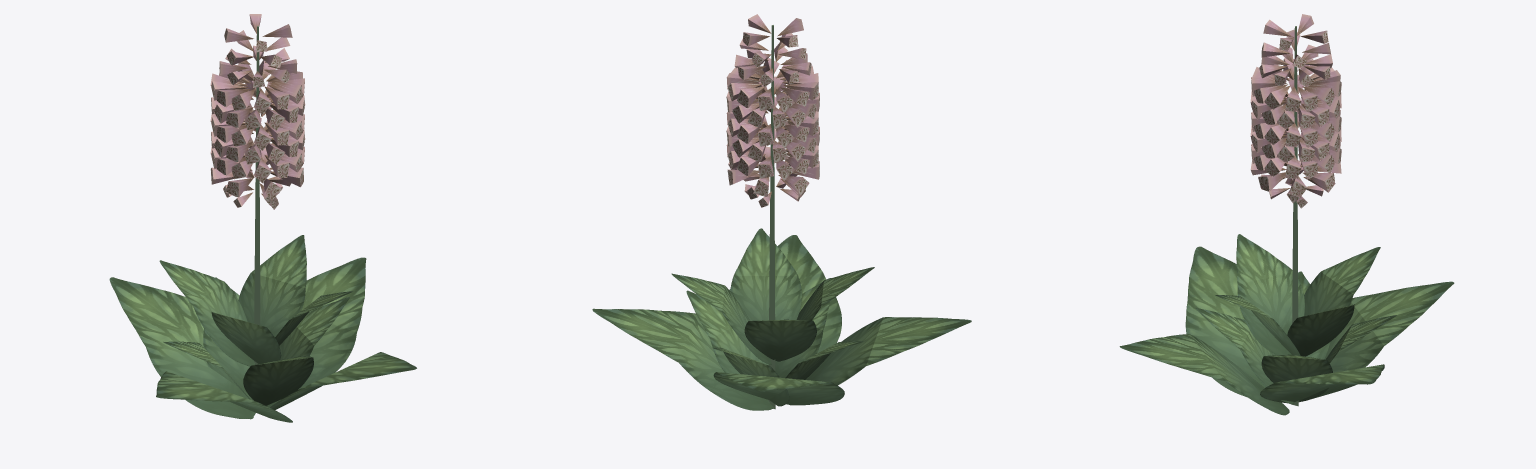
Rendered from MoreFlowersSadLowPoly.fbx.
3 views of the same model, side by side, from view 1: azimuth 30°, elevation 25°; view 2: azimuth 150°, elevation 25°; view 3: azimuth 270°, elevation 25° (orthographic).
Visible parts, largest first — view 1: LeafesCurve.002, LeafesCurve.001, LeafesCurve, Curve.005, Curve.002, Curve.003, Curve.001, Curve, Curve.004, Curve.006, Stem, Curve.010 (+1 smaller); view 2: LeafesCurve.002, LeafesCurve.001, LeafesCurve, Curve.005, Curve.002, Curve.003, Curve.001, Curve, Curve.004, Stem, Curve.006, Curve.010 (+1 smaller); view 3: LeafesCurve.002, LeafesCurve.001, LeafesCurve, Curve.005, Curve.002, Curve.003, Curve, Curve.001, Curve.004, Curve.006, Stem, Curve.010 (+1 smaller).
Part boxes in pixels (x1,y1,x2,y2): LeafesCurve.002: (109, 257, 416, 422); LeafesCurve.001: (159, 235, 352, 366); LeafesCurve: (163, 277, 349, 405); Curve.005: (210, 60, 304, 114); Curve.002: (211, 79, 305, 130); Curve.003: (210, 98, 304, 150); Curve.001: (210, 126, 304, 183); Curve: (211, 117, 305, 164); Curve.004: (219, 45, 297, 87); Curve.006: (210, 147, 303, 200); Stem: (253, 26, 260, 400); Curve.010: (224, 14, 292, 52); LeafesCurve.002: (592, 235, 971, 410); LeafesCurve.001: (671, 228, 874, 364); LeafesCurve: (686, 278, 862, 406); Curve.005: (726, 57, 818, 112); Curve.002: (726, 76, 819, 129); Curve.003: (726, 96, 818, 148); Curve.001: (726, 125, 818, 180); Curve: (726, 112, 819, 163); Curve.004: (734, 43, 811, 86); Stem: (768, 25, 775, 409); Curve.006: (727, 146, 819, 197); Curve.010: (742, 14, 803, 47); LeafesCurve.002: (1119, 246, 1454, 415); LeafesCurve.001: (1215, 234, 1380, 356); LeafesCurve: (1195, 271, 1396, 404); Curve.005: (1251, 58, 1341, 112); Curve.002: (1250, 75, 1341, 129); Curve.003: (1251, 96, 1341, 147); Curve: (1250, 110, 1341, 162); Curve.001: (1251, 126, 1341, 179); Curve.004: (1259, 44, 1332, 87); Curve.006: (1250, 160, 1341, 197); Stem: (1291, 26, 1298, 406); Curve.010: (1263, 14, 1328, 50).
Bounding box in the file's own units: 116 × 100 × 113.
